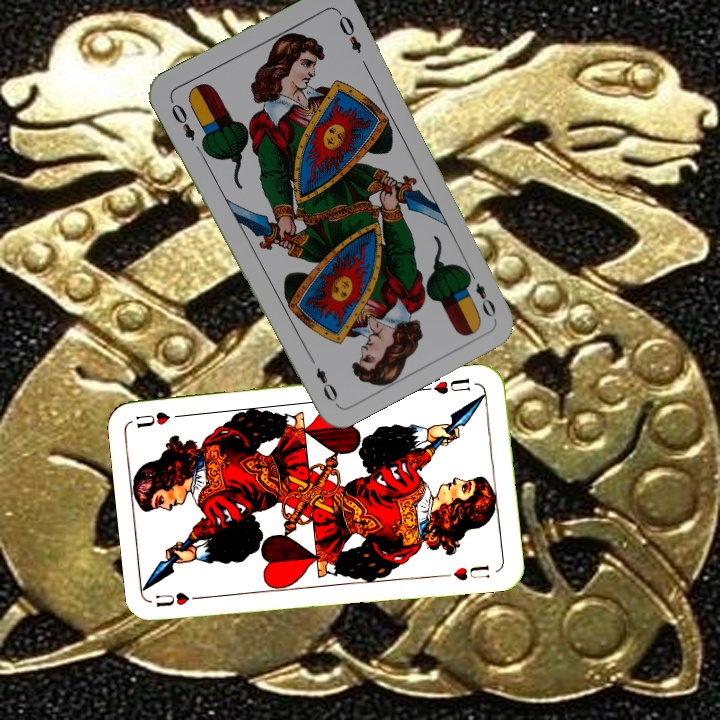EO: (463, 266, 499, 320), (166, 96, 198, 144)
HU: (151, 589, 210, 610), (430, 374, 473, 397)
